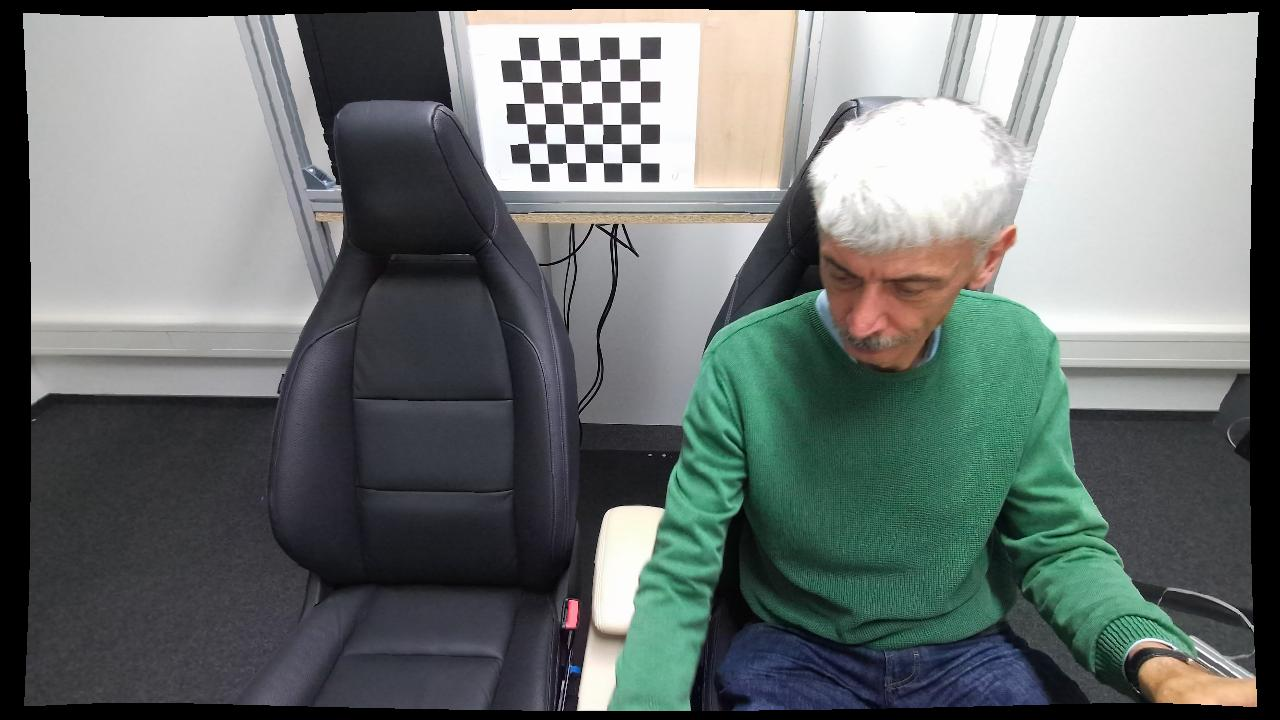Distracted: (608, 96, 1137, 708)
